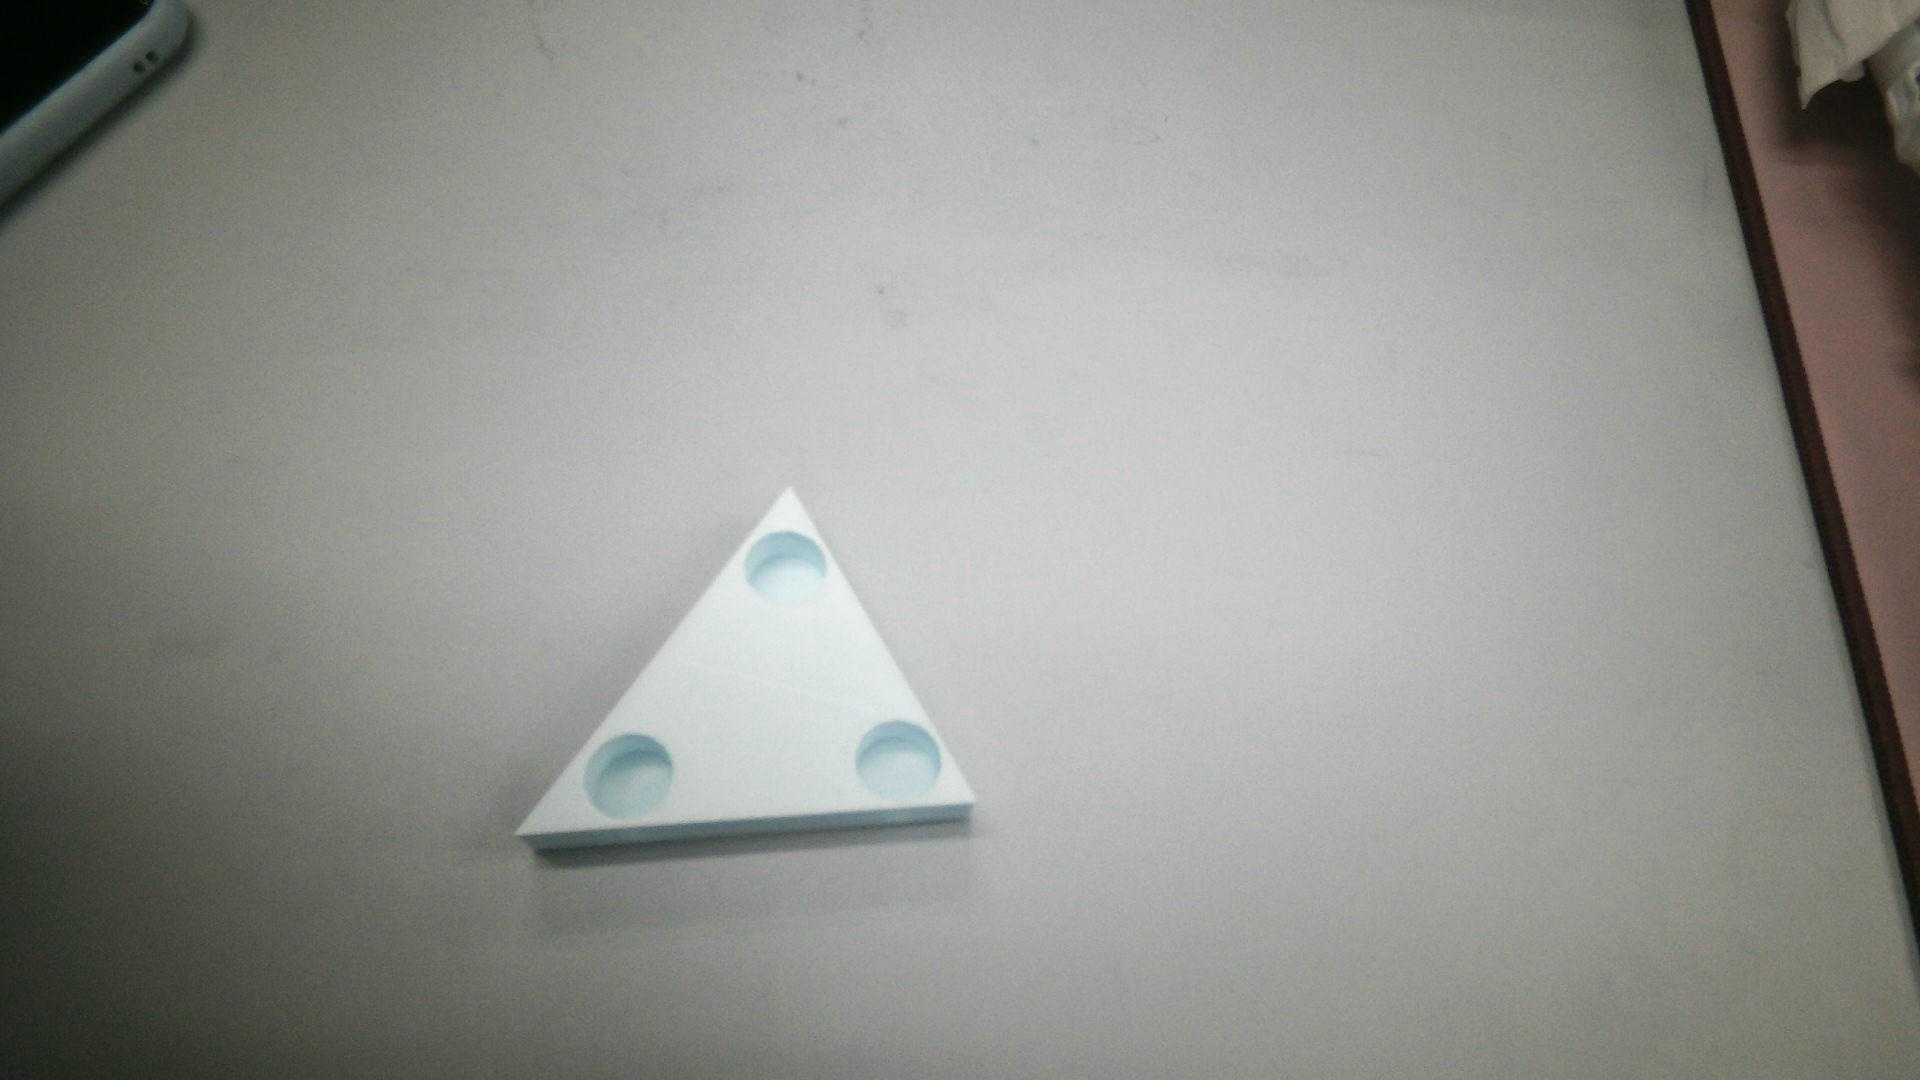hole: (847, 705, 942, 819), (742, 525, 840, 609), (582, 738, 670, 822)
obj: (502, 469, 986, 869)
